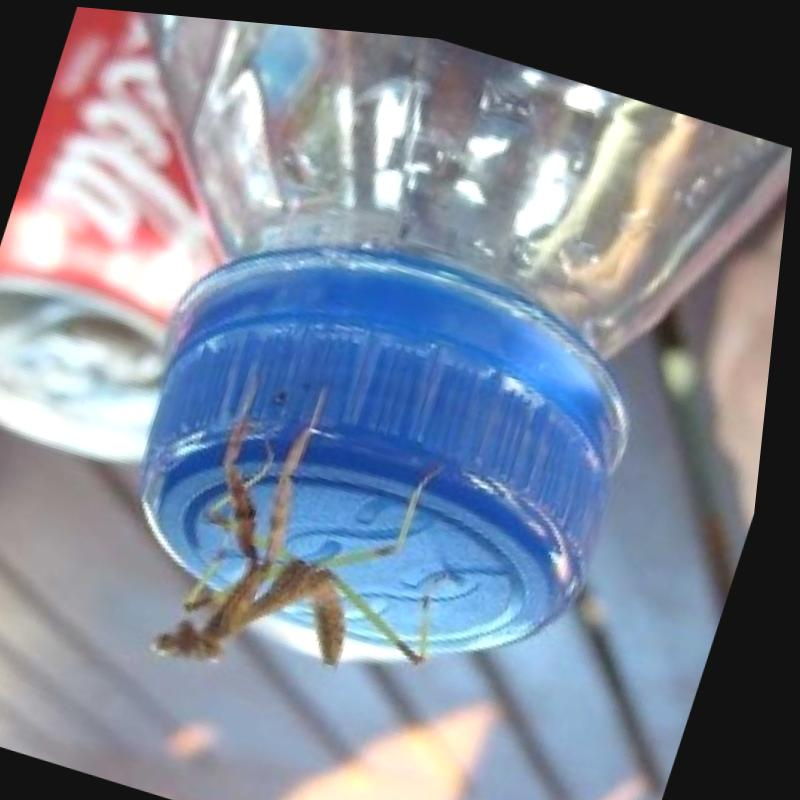botella: (0, 1, 800, 720)
